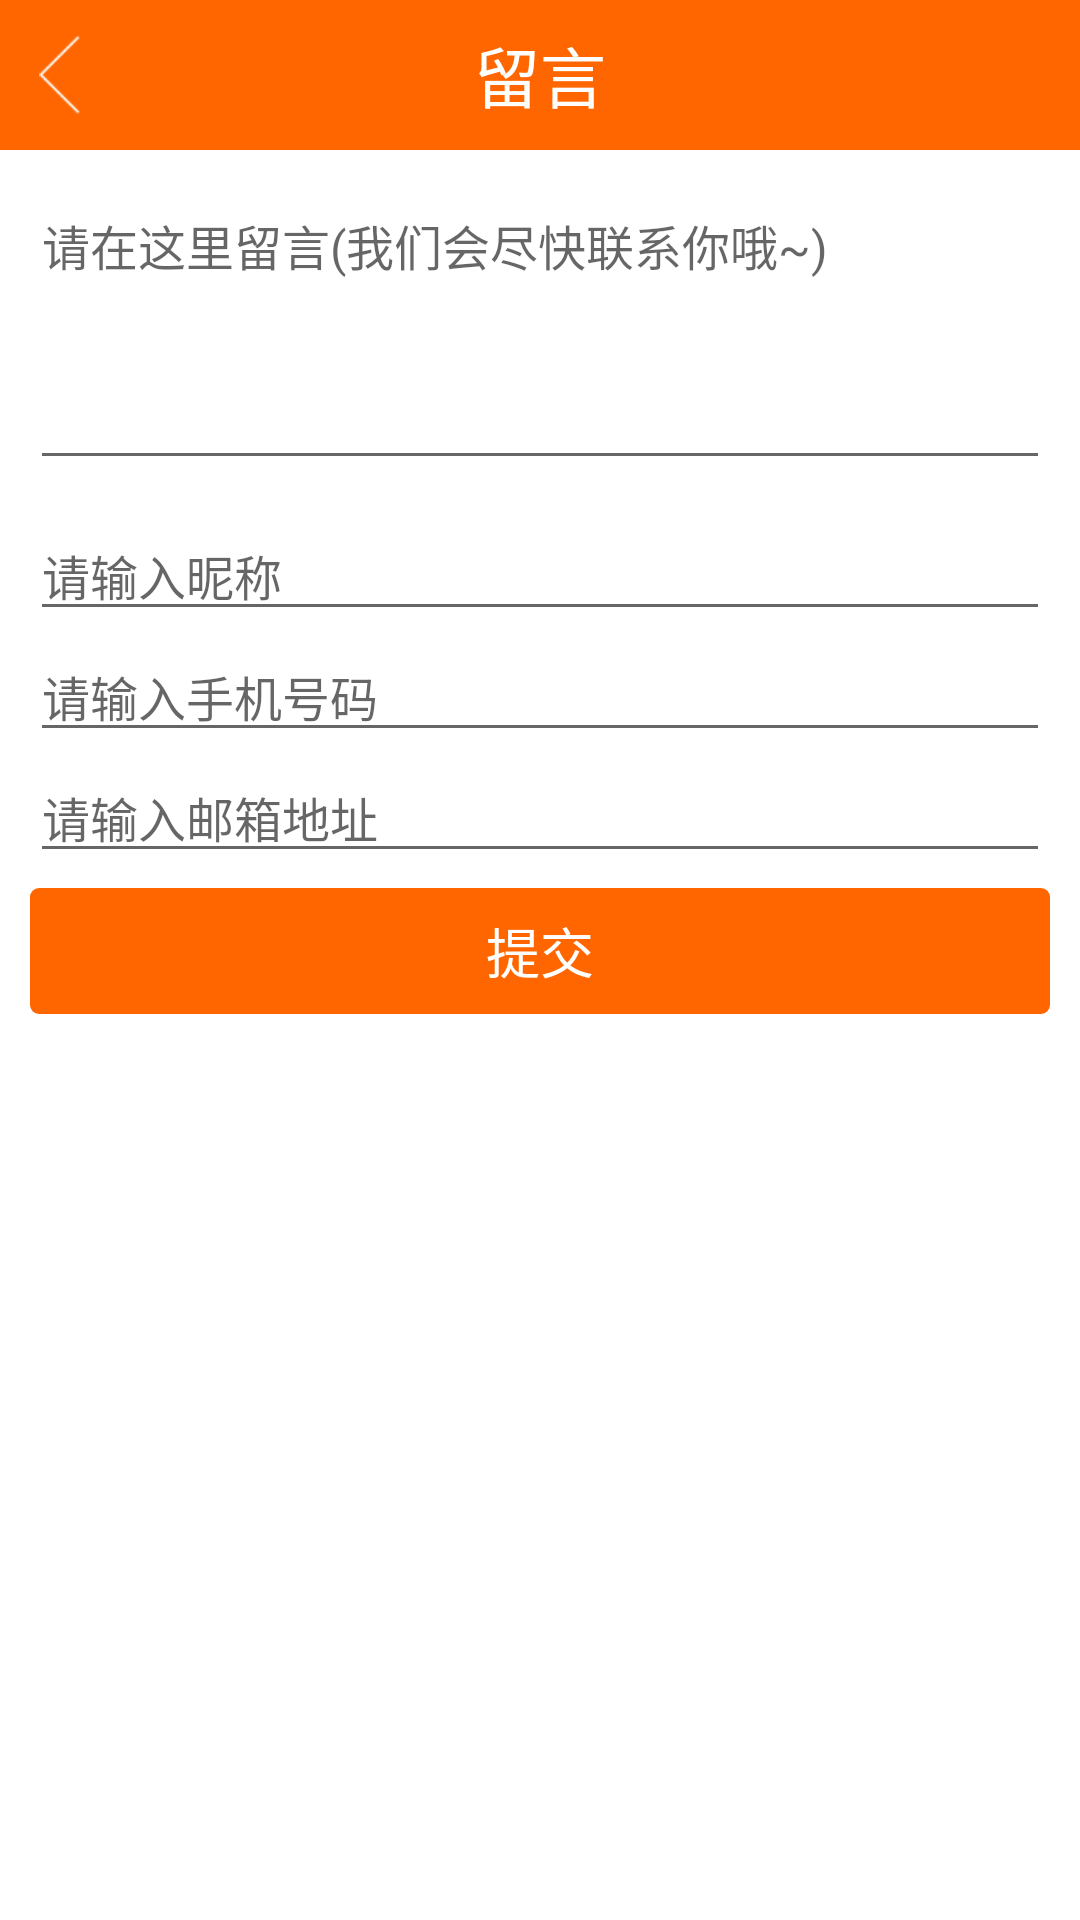

Icon bounding boxes for this 1080*1920 phone screenshot, format (x1, y1, x2, y2):
left arrow: (39, 36, 80, 114)
